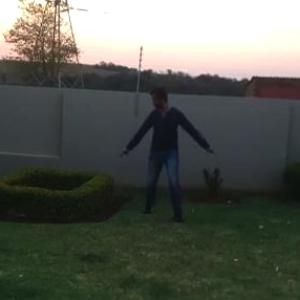land: (110, 79, 235, 255)
